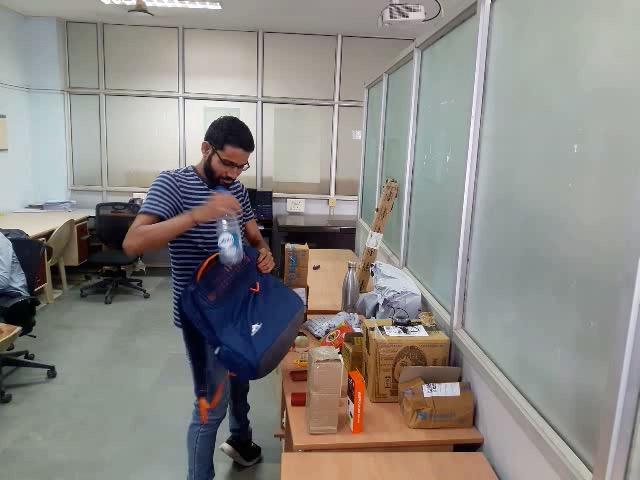shoplifting: (159, 189, 332, 388)
